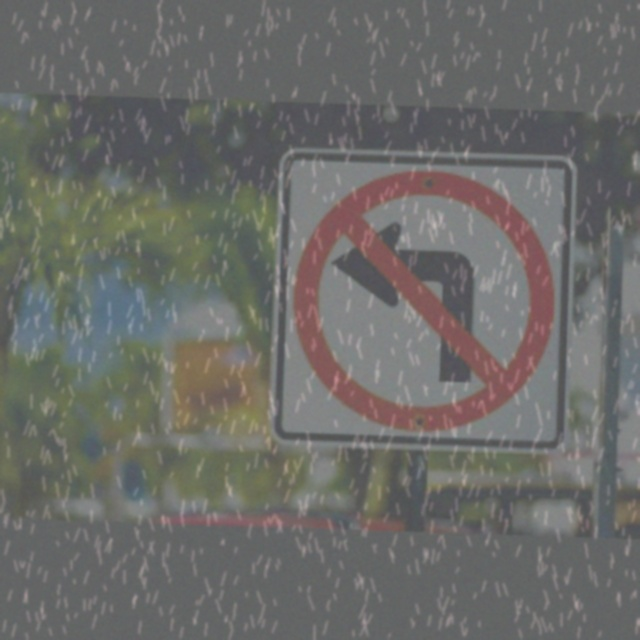Left_Turn_Prohibited: (288, 164, 565, 443)
